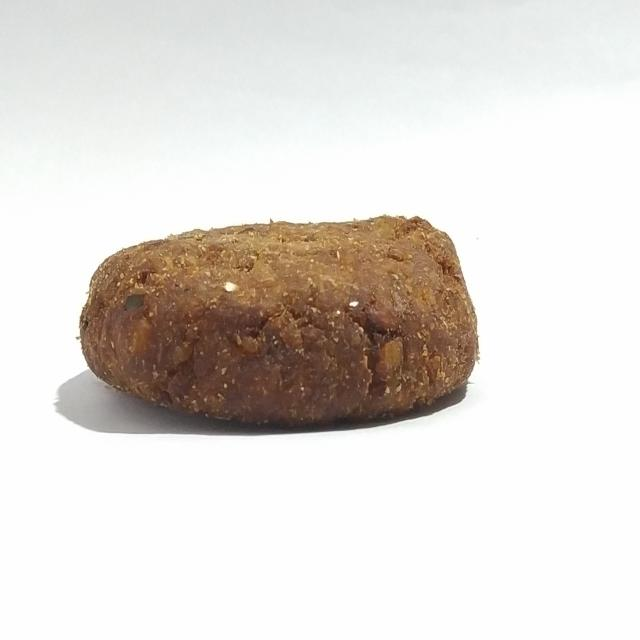Food: (66, 196, 491, 454)
